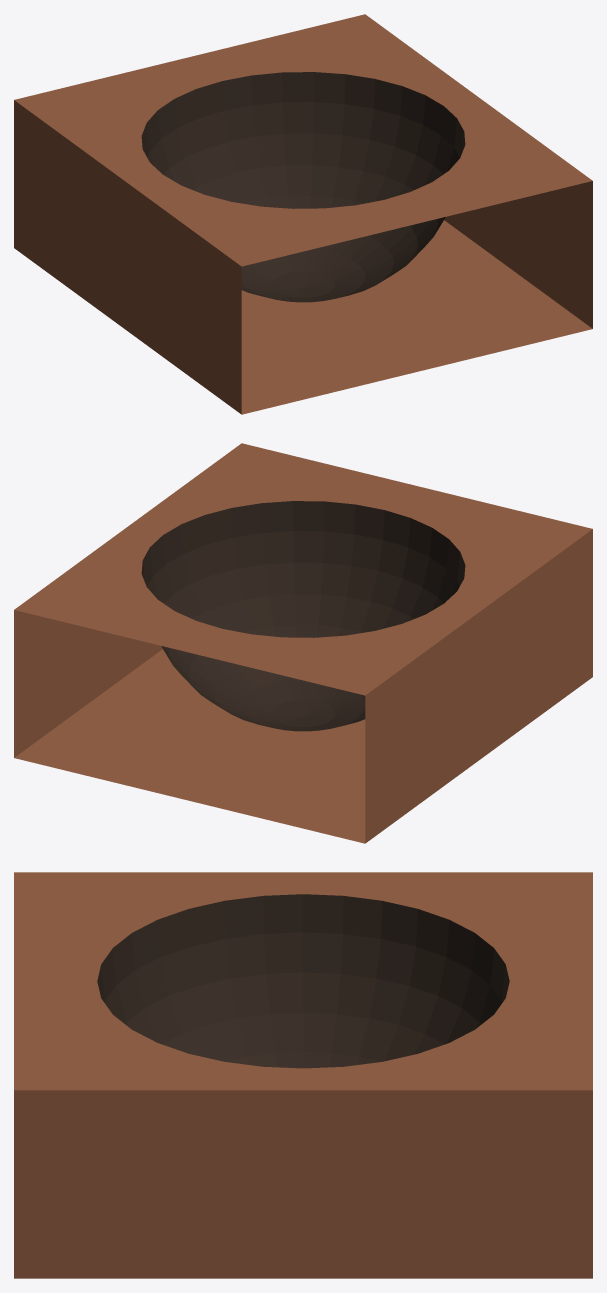
The model's file is Cannon Ball Holder Middle Piece.fbx.
3 renders of one model, top to bottom at view 1: azimuth 30°, elevation 25°; view 2: azimuth 150°, elevation 25°; view 3: azimuth 270°, elevation 25°, orthographic. The views are drawn at different scales.
Visible parts, largest first — view 1: Cannon Ball Holder Middle Piece; view 2: Cannon Ball Holder Middle Piece; view 3: Cannon Ball Holder Middle Piece.
Boxes of the visible parts, x1=… form: Cannon Ball Holder Middle Piece: x1=14, y1=14, x2=592, y2=414; Cannon Ball Holder Middle Piece: x1=14, y1=443, x2=592, y2=843; Cannon Ball Holder Middle Piece: x1=14, y1=872, x2=592, y2=1278.
Bounding box in the file's own units: 250 × 101 × 281.
